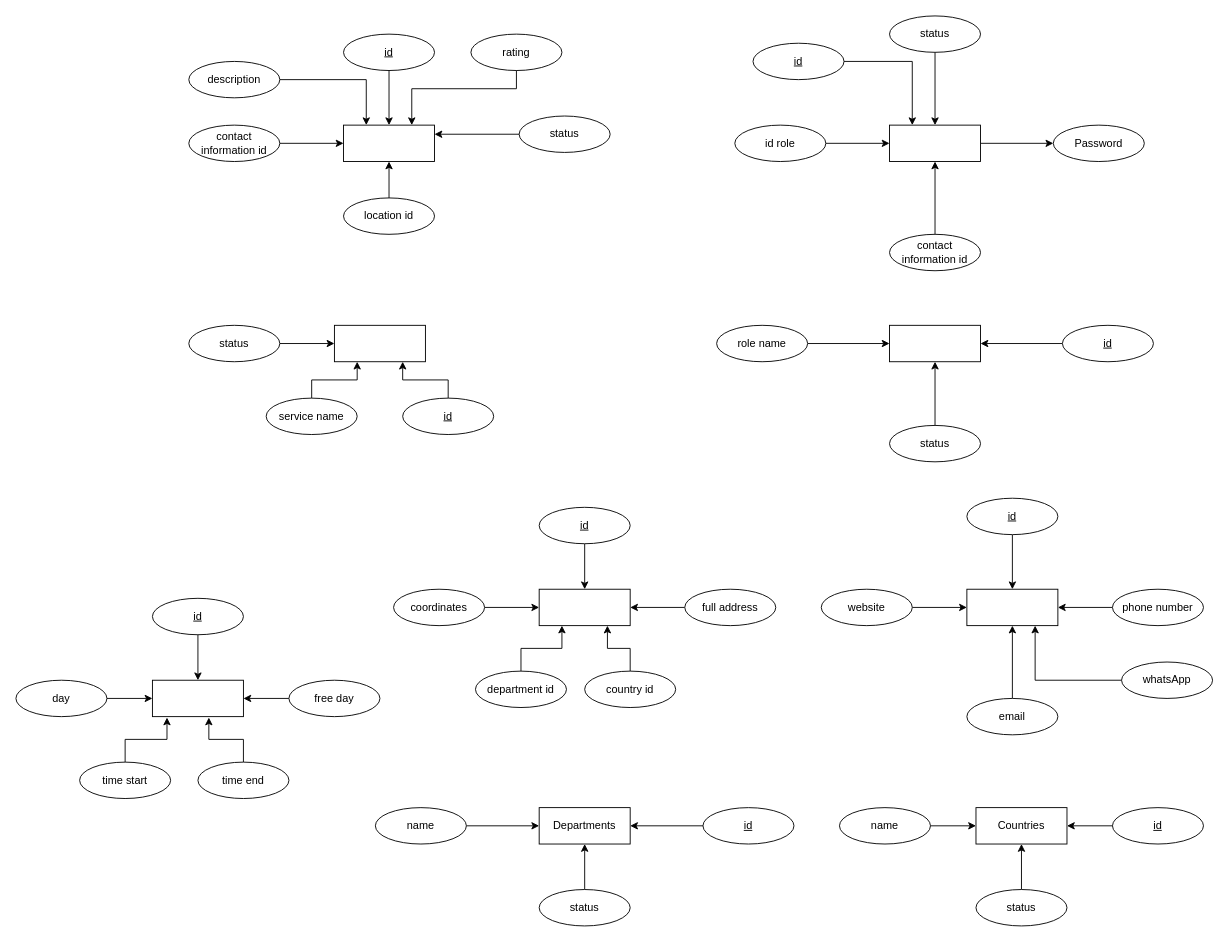
This 1229x942 diagram has some shape labels left out. The shapes that lost their labels are listed below. From the top down, each one's centre as x and y in pixels, then its label:
point (389, 143): service
point (935, 143): Users
point (379, 343): services type
point (935, 343): Roles
point (584, 607): Locations
point (1012, 607): Contacts information
point (197, 698): Schedules
